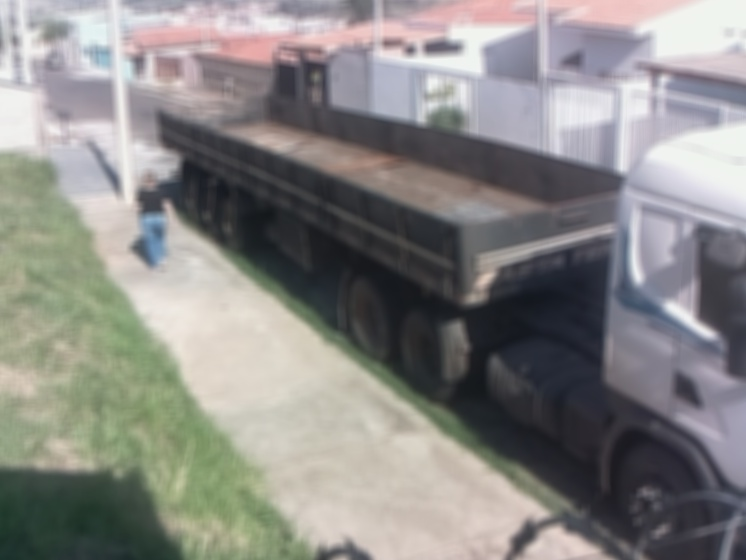person: (132, 170, 179, 274)
